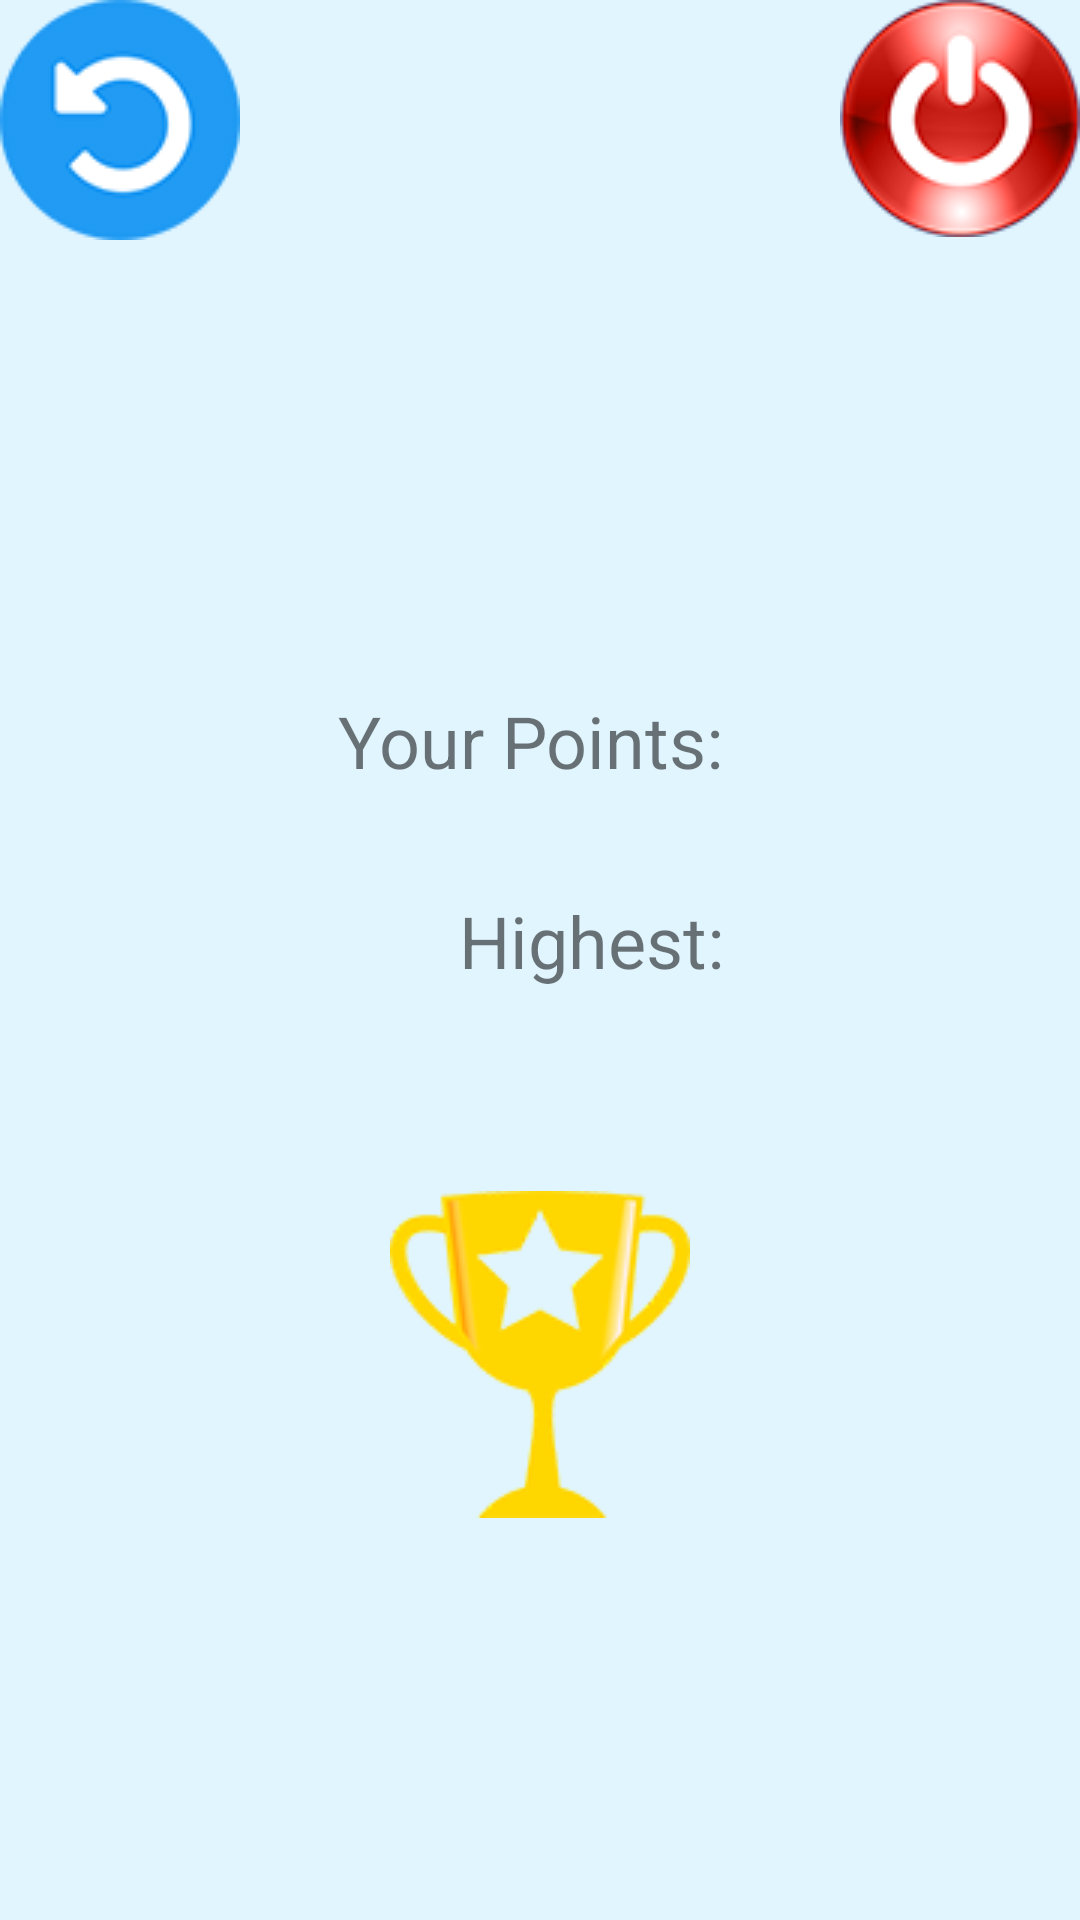

Screen size 1080w x 1920h. Icon name, then its center in pixels as [x,y]:
exit: [960,118]
highest: [540,1354]
restart: [120,120]
